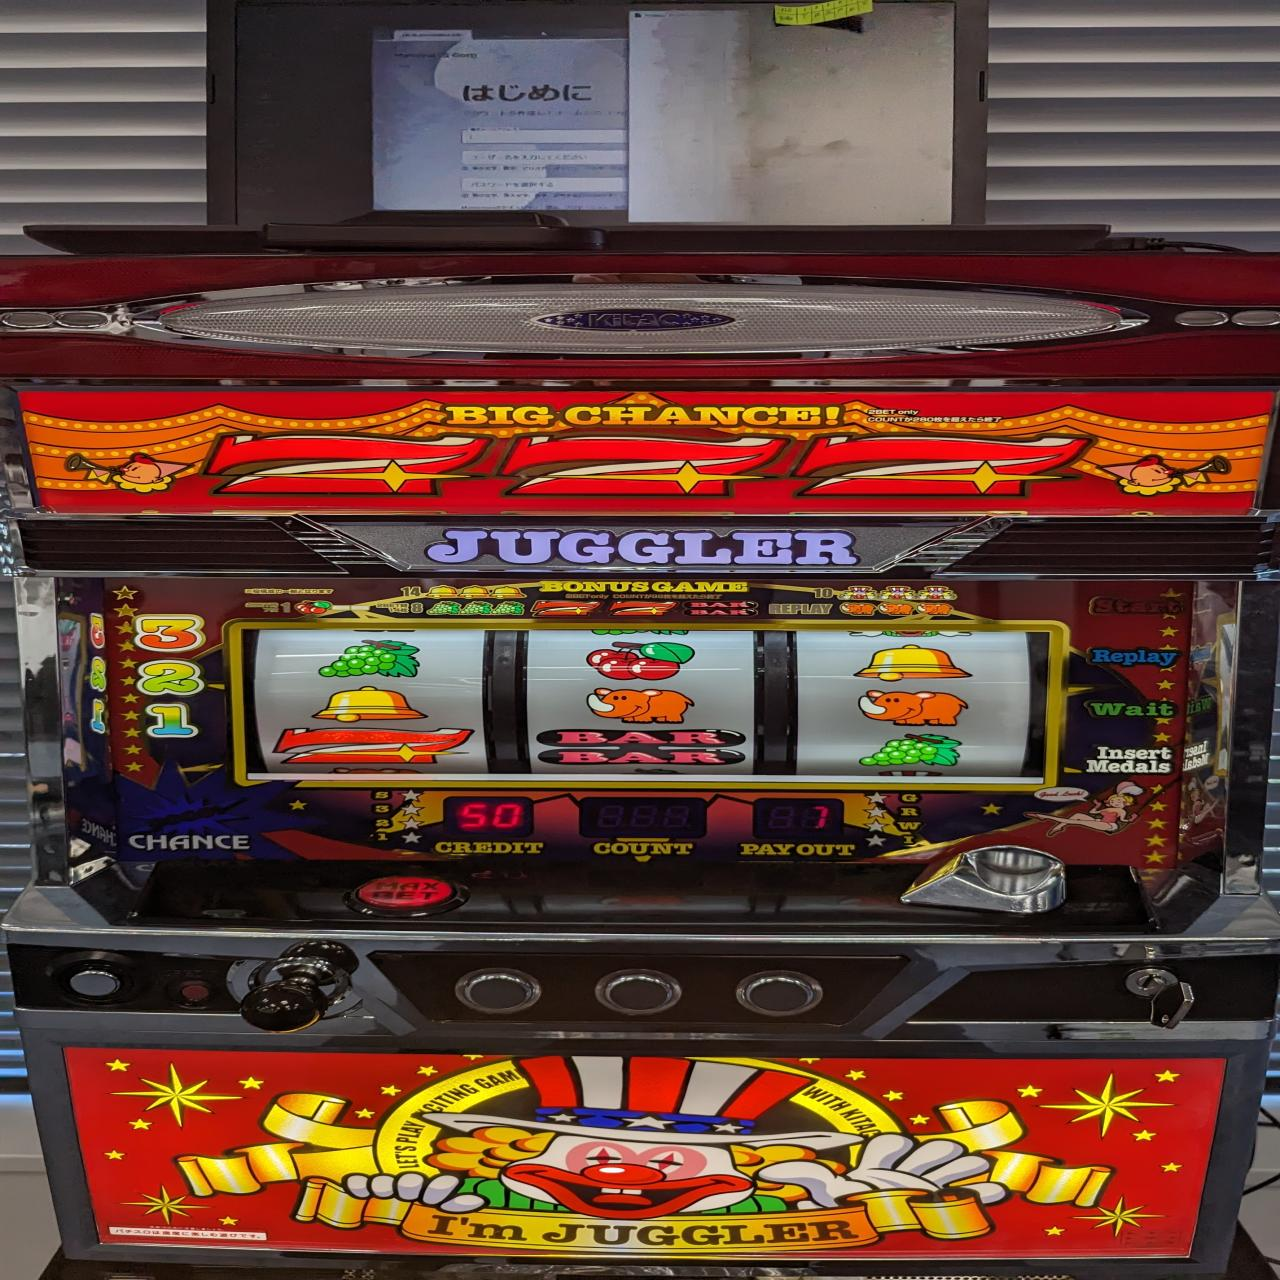7: (277, 728, 475, 765)
8: (856, 689, 975, 727), (585, 687, 695, 724)
Display: (234, 624, 1055, 790)
bar: (536, 727, 749, 769)
bell: (851, 644, 976, 683), (309, 686, 424, 727)
cherry: (580, 641, 696, 681)
grape: (318, 639, 423, 679), (856, 733, 965, 768)
